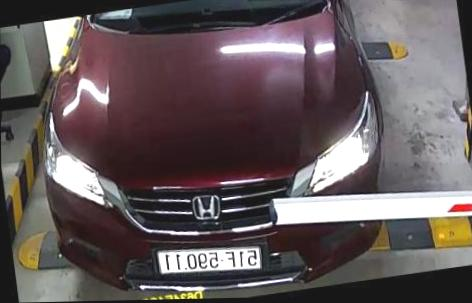License_Plate: (154, 240, 265, 282)
